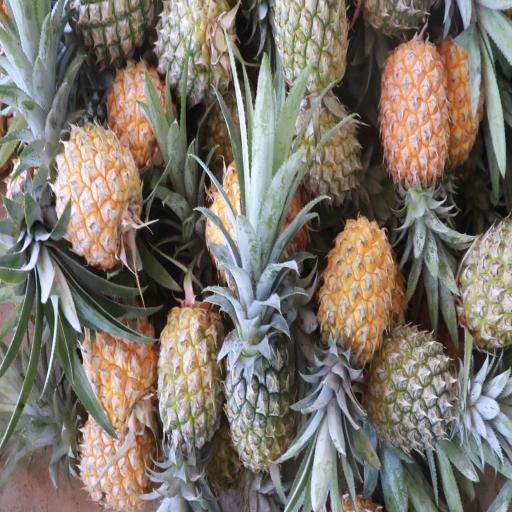------------------------------: (158, 300, 222, 472)
Pineapple - v8 v1: (321, 221, 392, 450), (383, 48, 450, 276), (50, 132, 150, 265), (79, 304, 160, 437), (104, 66, 180, 180), (439, 36, 488, 182), (78, 417, 156, 506)
